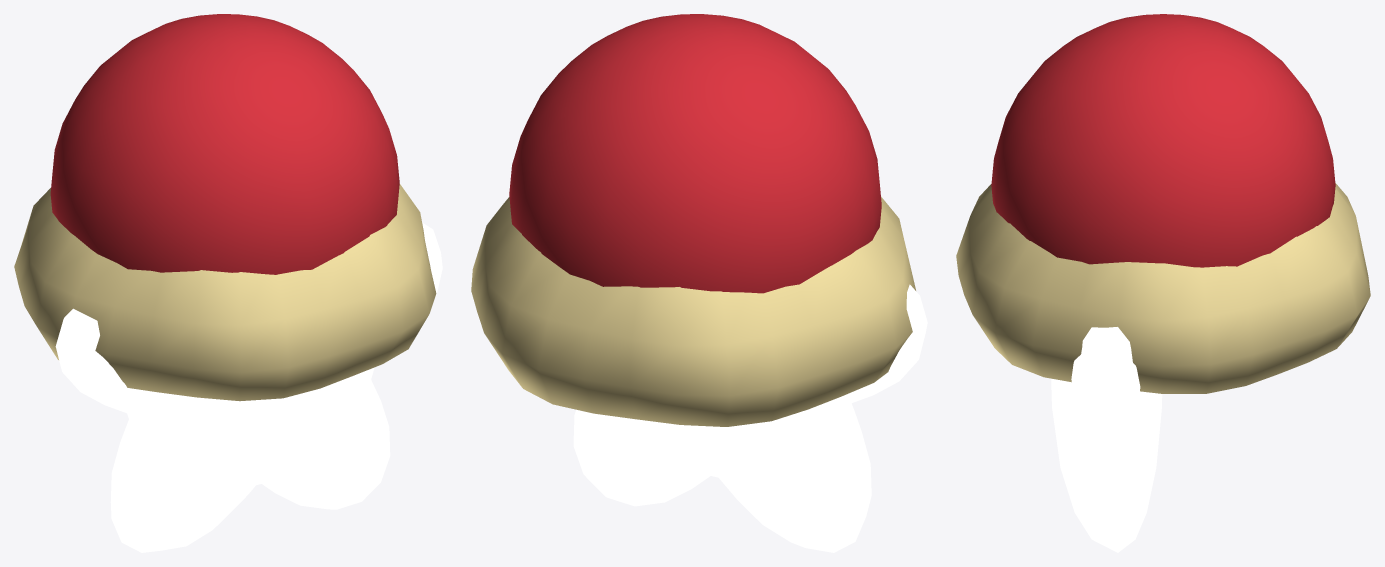
The model's file is ornaments-birthday.glb.
3 views of the same model, side by side, from view 1: azimuth 30°, elevation 25°; view 2: azimuth 150°, elevation 25°; view 3: azimuth 270°, elevation 25° (orthographic). The views are drawn at different scales.
Parts seen in each view (by area): view 1: t_Orn_Candy, t_Orn_Kiss, t_Orn_Jelly; view 2: t_Orn_Candy, t_Orn_Kiss, t_Orn_Jelly; view 3: t_Orn_Candy, t_Orn_Kiss, t_Orn_Jelly.
Boxes of the visible parts, bbox=[...] form: t_Orn_Candy: bbox=[50, 14, 399, 274]; t_Orn_Kiss: bbox=[14, 184, 436, 401]; t_Orn_Jelly: bbox=[55, 222, 442, 552]; t_Orn_Candy: bbox=[509, 14, 881, 293]; t_Orn_Kiss: bbox=[471, 196, 915, 426]; t_Orn_Jelly: bbox=[573, 284, 927, 552]; t_Orn_Candy: bbox=[991, 14, 1335, 267]; t_Orn_Kiss: bbox=[956, 183, 1370, 393]; t_Orn_Jelly: bbox=[1051, 327, 1162, 552].
Bounding box in the file's own units: 2.09 × 2.5 × 1.98.
